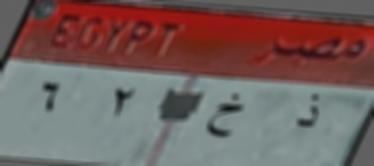2: (98, 82, 144, 120)
6: (31, 76, 75, 124)
khaa: (206, 90, 253, 146)
zaal: (288, 89, 332, 141)
